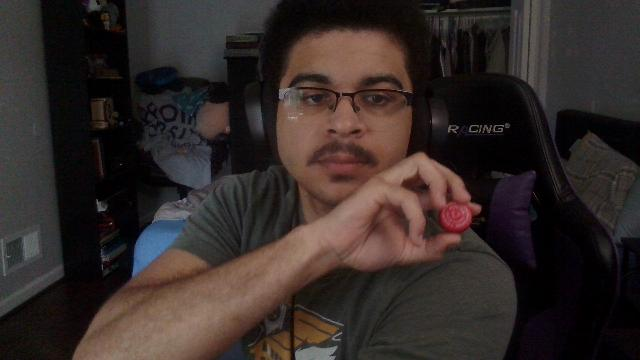cap: (440, 202, 472, 232)
